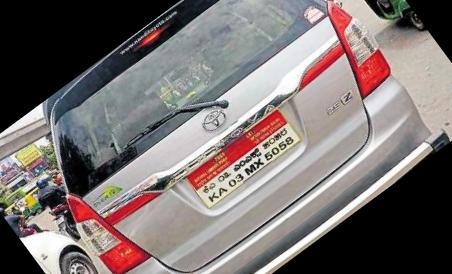plate: (169, 95, 317, 225)
